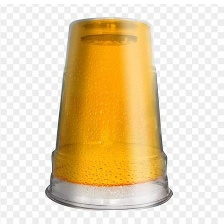glass: (39, 9, 175, 216)
